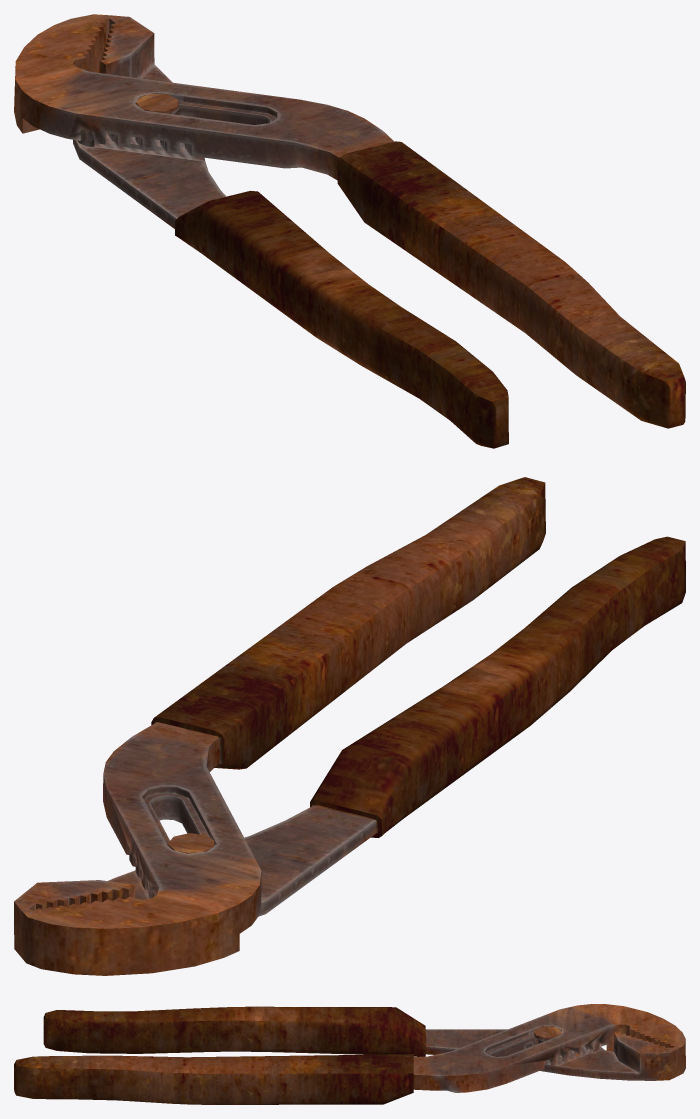
Rendered from tongue_groove_pliers.glb.
3 views of the same model, one above another, from view 1: azimuth 30°, elevation 25°; view 2: azimuth 150°, elevation 25°; view 3: azimuth 270°, elevation 25° (orthographic). The views are drawn at different scales.
Visible parts, largest first — view 1: tongue_groove_pliers; view 2: tongue_groove_pliers; view 3: tongue_groove_pliers.
Part boxes in pixels (x1,y1,x2,y2): tongue_groove_pliers: [14, 14, 685, 448]; tongue_groove_pliers: [14, 477, 685, 975]; tongue_groove_pliers: [14, 1004, 685, 1104].
Size of what is drawn, in the model's own units: 0.0624 by 0.0138 by 0.2446.
1 material, 1 textured.
